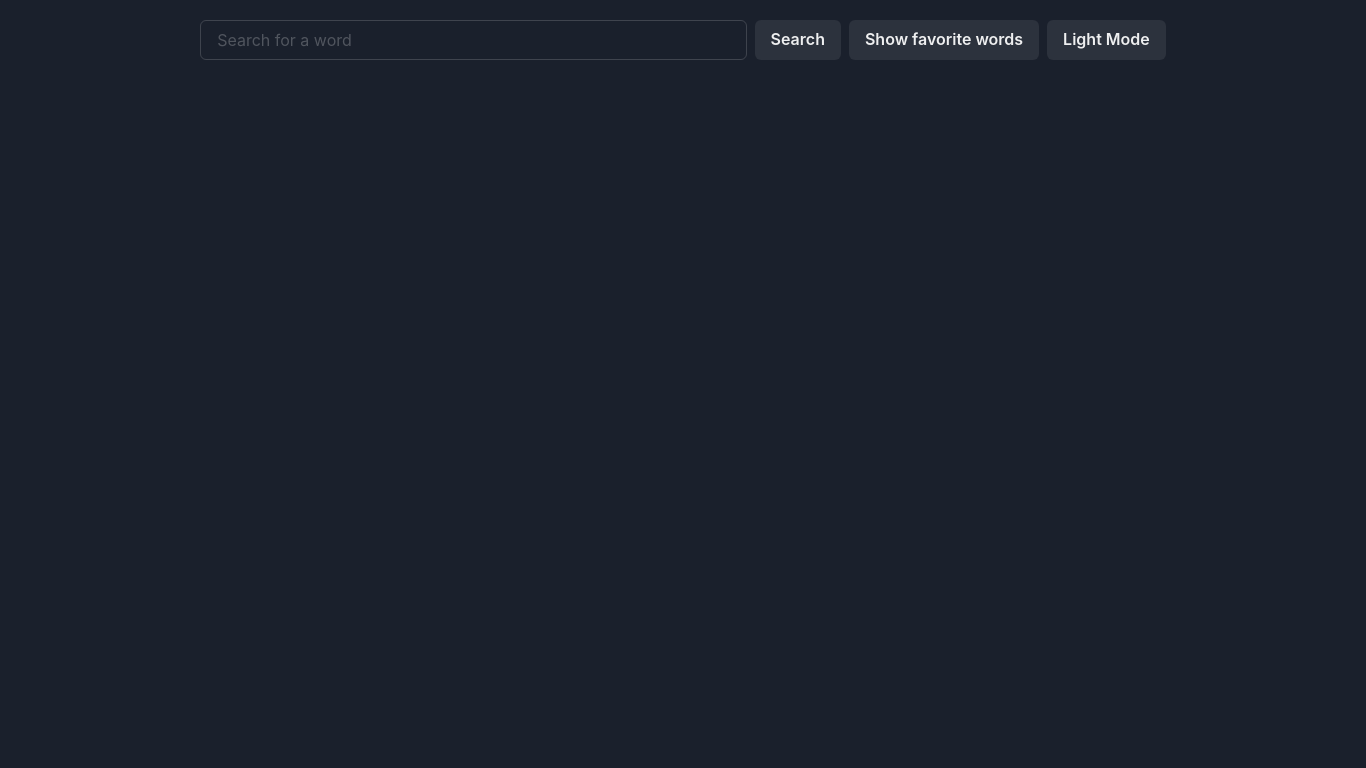
VG:should be able to switch between dark and light theme › should display light mode
The width and height of the screenshot is (1366, 768).
# Clicks the toggle button.
Click the button "Light Mode": click(1106, 40) [1047,20,1166,60]
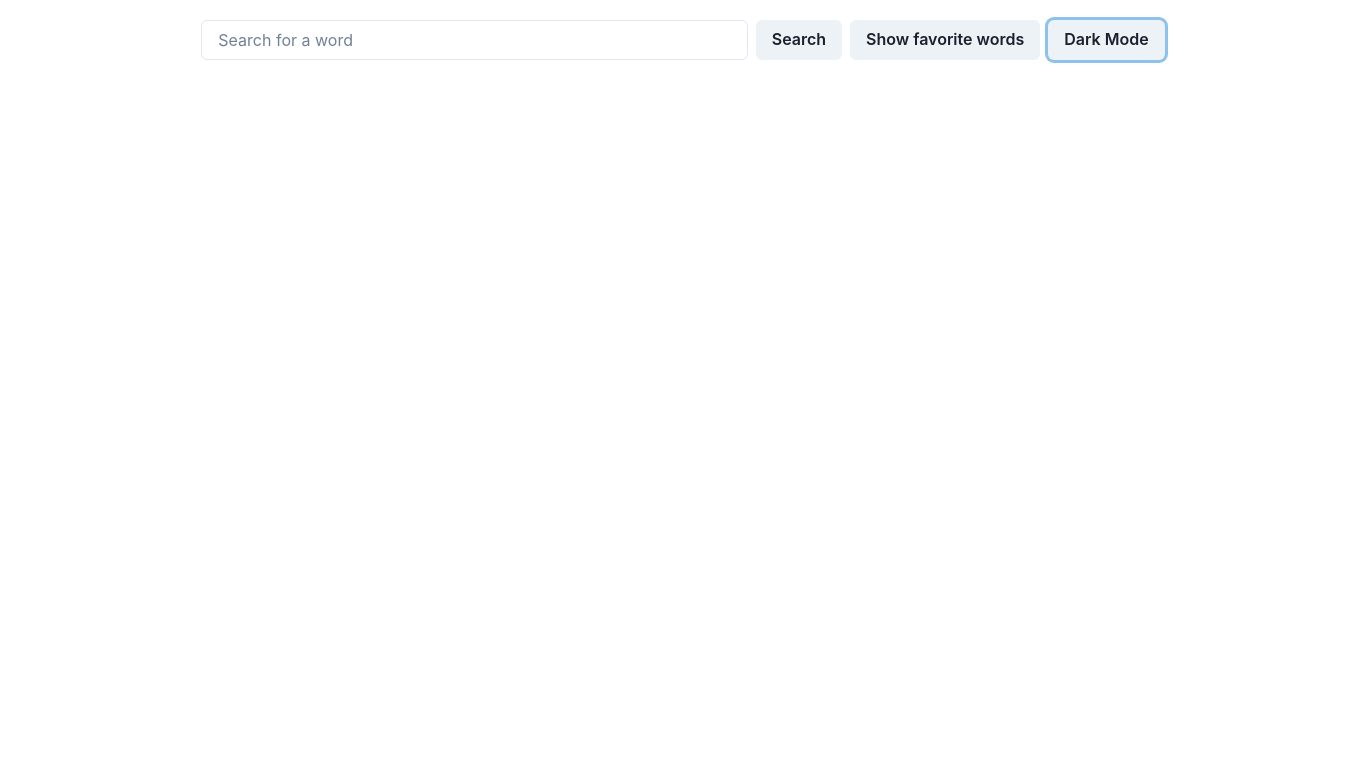
Expected: the button named "Light Mode" reads "Dark Mode", [1048,20,1165,60]
